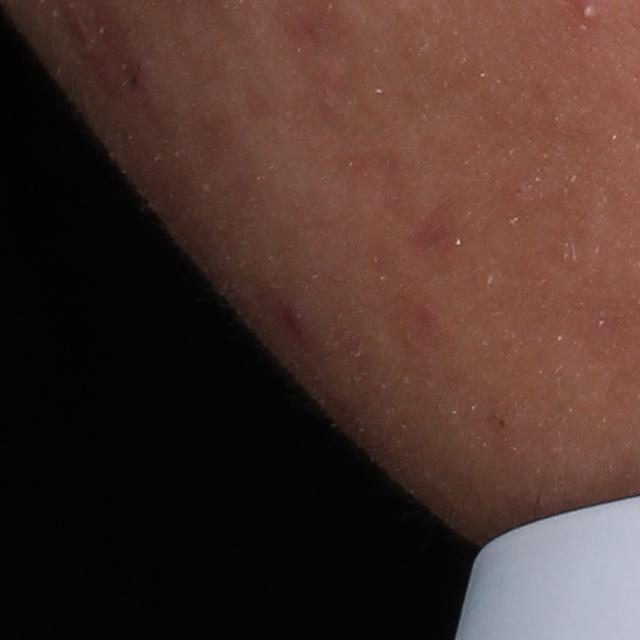pustule: (578, 3, 598, 23)
